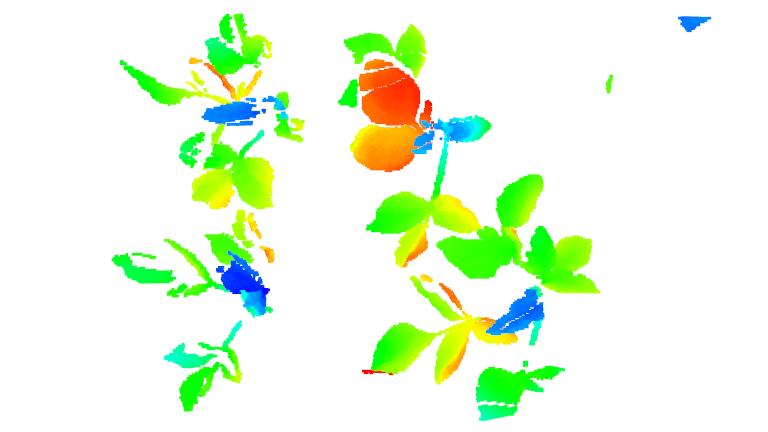mungbean: (370, 172, 600, 421), (336, 24, 498, 268), (116, 13, 309, 210), (111, 209, 282, 412)
